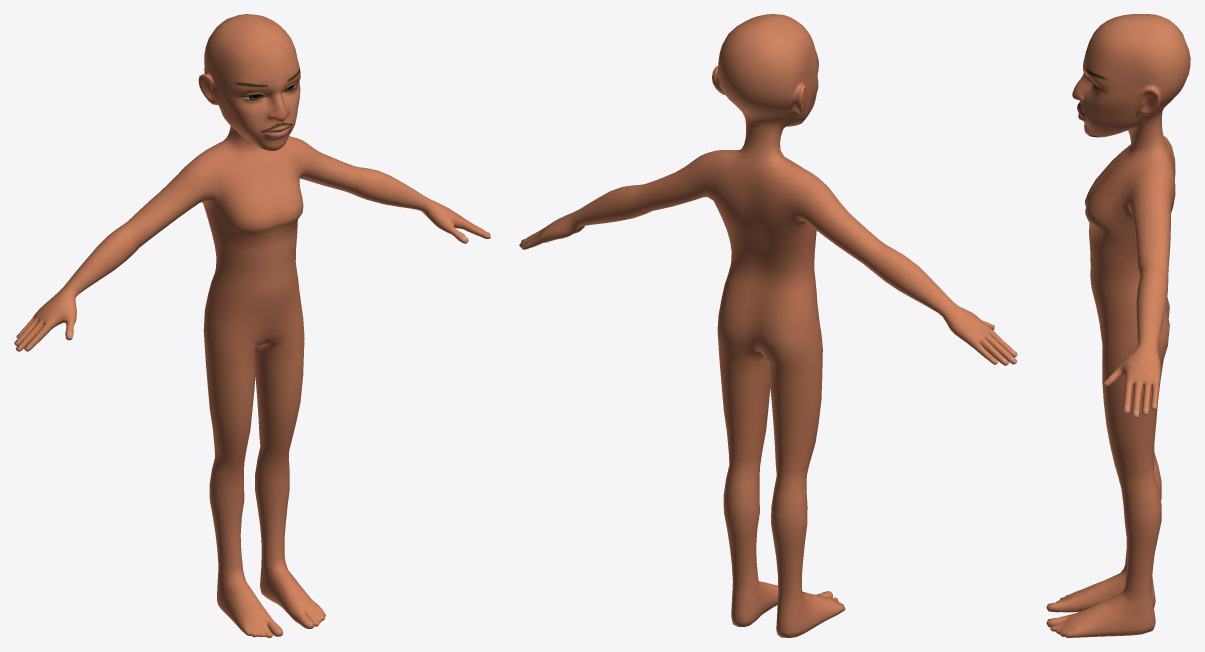
Rendered from frame_0067.glb.
3 views of the same model, side by side, from view 1: azimuth 30°, elevation 25°; view 2: azimuth 150°, elevation 25°; view 3: azimuth 270°, elevation 25° (orthographic). The views are drawn at different scales.
Visible parts, largest first — view 1: frame_0067_head_geo; view 2: frame_0067_head_geo; view 3: frame_0067_head_geo.
Boxes of the visible parts, bbox=[...] form: frame_0067_head_geo: bbox=[14, 14, 490, 637]; frame_0067_head_geo: bbox=[519, 14, 1017, 637]; frame_0067_head_geo: bbox=[1046, 14, 1190, 637].
Bounding box in the file's own units: 1.28 × 1.5 × 0.3253.
3 materials, 3 textured.
